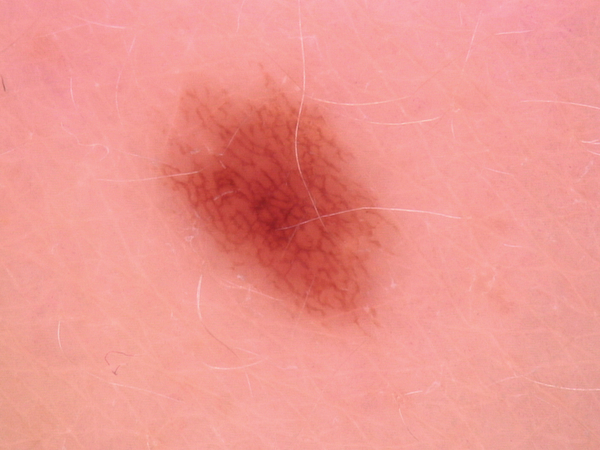Detected Lesion: (162, 75, 392, 331)
